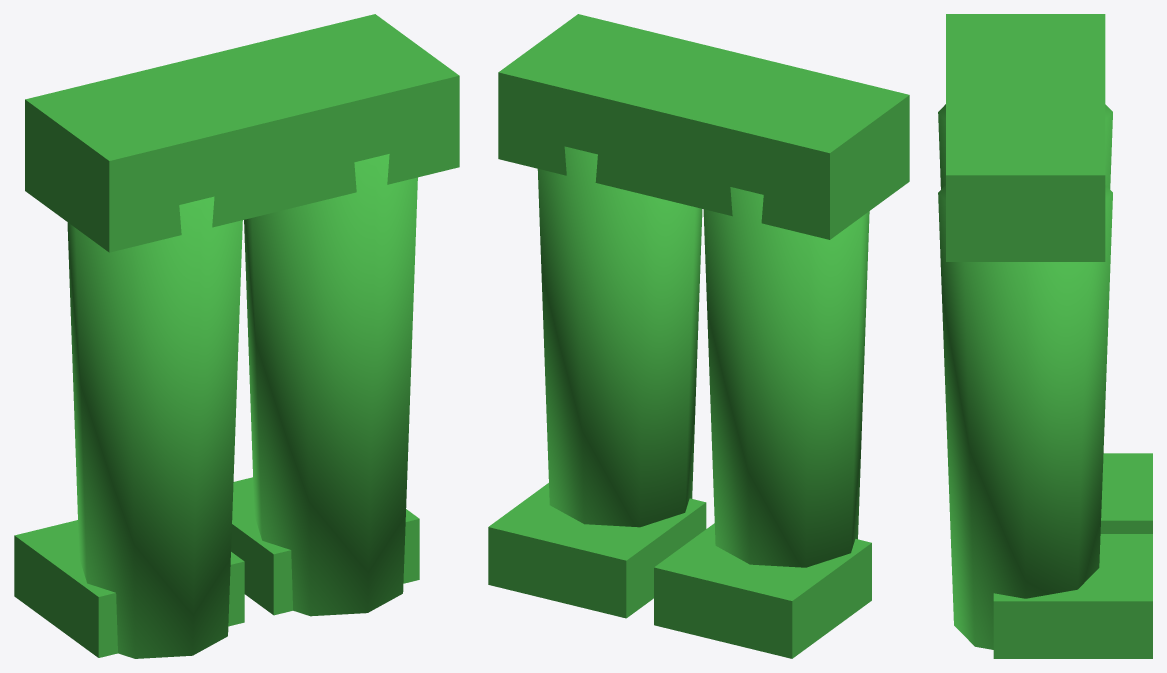
Rendered from chlorophyte_greaves.glb.
3 renders of one model, left to right at view 1: azimuth 30°, elevation 25°; view 2: azimuth 150°, elevation 25°; view 3: azimuth 270°, elevation 25°, orthographic. The views are drawn at different scales.
Visible parts, largest first — view 1: chlorophyte_greaves_v0; view 2: chlorophyte_greaves_v0; view 3: chlorophyte_greaves_v0.
Boxes of the visible parts, x1,y1,x2,y2 form: chlorophyte_greaves_v0: [14, 14, 459, 658]; chlorophyte_greaves_v0: [488, 14, 909, 658]; chlorophyte_greaves_v0: [938, 14, 1152, 658].
Bounding box in the file's own units: 0.24 × 0.34 × 0.135.
